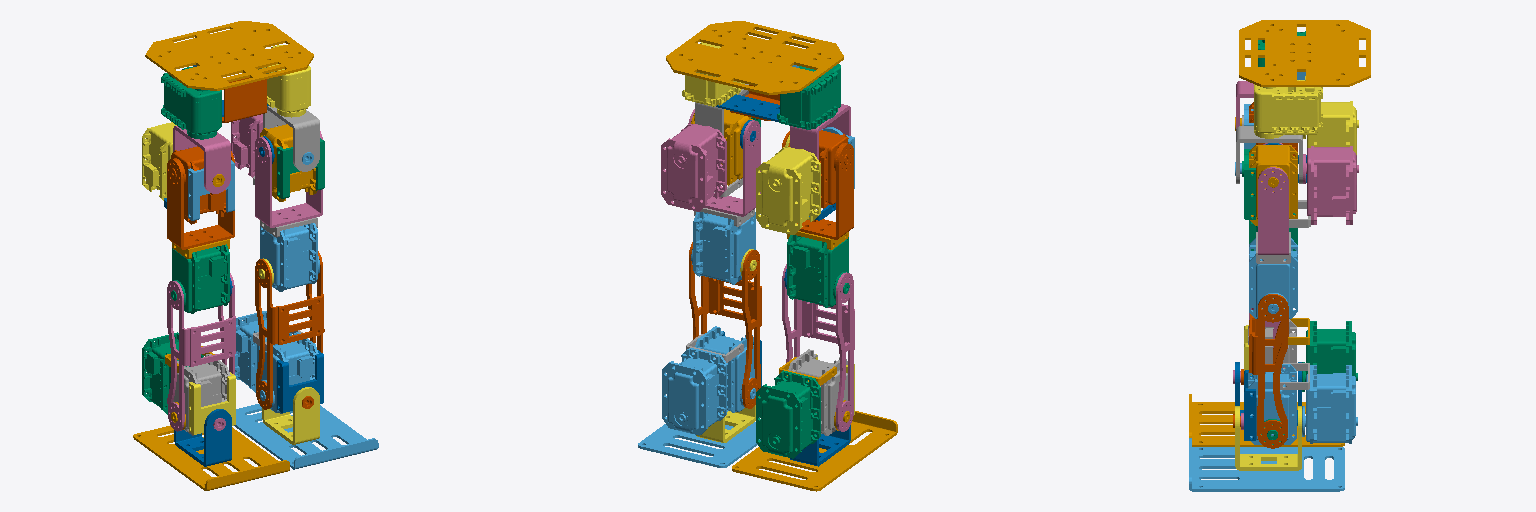
--- Render facts (derived) ---
Views: 3 orthographic renders of the robot side by side, from view 1: azimuth 30°, elevation 25°; view 2: azimuth 150°, elevation 25°; view 3: azimuth 270°, elevation 25°.
Model Biped with 50 links and 49 joints (12 continuous, 37 fixed), rooted at base_link, posed all joints at 0.
Links seen in each view (by area): view 1: base_link, Foot_L1, Knee_Foot_bracket_R1, Knee_Foot_Bracket_L1, Foot_R1, Knee_servo_Pitch_L1, Knee_servo_Pitch_R1, Hip_servo_Yaw_L1, Hip_Knee_bracket_L1, Hip_Knee_Backet_R1, foot_connect_L1, foot_connect_R1 (+16 smaller); view 2: base_link, Hip_servo_roll_R1, Hip_servo_roll_L1, foot_Servo_roll_R1, foot_servo_roll_L1, Foot_L1, Knee_Foot_Bracket_L1, Knee_Foot_bracket_R1, Knee_servo_Pitch_L1, Knee_servo_Pitch_R1, Foot_R1, Hip_servo_Yaw_L1 (+12 smaller); view 3: base_link, Foot_R1, Hip_servo_roll_R1, foot_Servo_roll_R1, Knee_Foot_bracket_R1, Hip_servo_Yaw__R_1, Hip_Knee_Backet_R1, Foot_L1, Knee_servo_Pitch_R1, foot_servo_roll_L1, Hip_servo_Pitch_R1, Hip_servo_roll_L1 (+6 smaller).
Boxes of the visible links, x1,y1,x2,y2 form: base_link: [145, 21, 313, 90]; Foot_L1: [133, 425, 289, 490]; Knee_Foot_bracket_R1: [255, 251, 324, 409]; Knee_Foot_Bracket_L1: [167, 273, 235, 431]; Foot_R1: [234, 404, 378, 469]; Knee_servo_Pitch_L1: [171, 244, 229, 313]; Knee_servo_Pitch_R1: [260, 223, 319, 291]; Hip_servo_Yaw_L1: [161, 67, 221, 139]; Hip_Knee_bracket_L1: [167, 151, 234, 249]; Hip_Knee_Backet_R1: [255, 131, 322, 227]; foot_connect_L1: [174, 409, 231, 466]; foot_connect_R1: [262, 387, 319, 444]; base_link: [666, 21, 843, 95]; Hip_servo_roll_R1: [661, 124, 726, 211]; Hip_servo_roll_L1: [756, 147, 820, 234]; foot_Servo_roll_R1: [662, 348, 726, 435]; foot_servo_roll_L1: [756, 370, 820, 458]; Foot_L1: [732, 411, 897, 491]; Knee_Foot_Bracket_L1: [782, 264, 854, 431]; Knee_Foot_bracket_R1: [689, 242, 761, 408]; Knee_servo_Pitch_L1: [787, 235, 849, 307]; Knee_servo_Pitch_R1: [691, 212, 755, 284]; Foot_R1: [638, 410, 760, 467]; Hip_servo_Yaw_L1: [777, 64, 840, 129]; base_link: [1239, 20, 1370, 86]; Foot_R1: [1189, 438, 1344, 491]; Hip_servo_roll_R1: [1303, 146, 1358, 224]; foot_Servo_roll_R1: [1302, 365, 1357, 443]; Knee_Foot_bracket_R1: [1249, 294, 1288, 448]; Hip_servo_Yaw__R_1: [1254, 76, 1322, 138]; Hip_Knee_Backet_R1: [1258, 143, 1288, 254]; Foot_L1: [1189, 394, 1344, 446]; Knee_servo_Pitch_R1: [1249, 238, 1297, 318]; foot_servo_roll_L1: [1302, 321, 1357, 391]; Hip_servo_Pitch_R1: [1249, 145, 1297, 225]; Hip_servo_roll_L1: [1303, 101, 1358, 154].
Size in the robot's own frame: 0.148 by 0.131 by 0.311 metres.
Meshes: 50 distinct files referenced, 50 mesh visuals loaded (50 binary STL).

URDF robot description (Biped):
<?xml version="1.0" ?>
<robot name="Biped">

<material name="silver">
  <color rgba="0.700 0.700 0.700 1.000"/>
</material>

<link name="base_link">
  <inertial>
    <origin xyz="0.06060872462491695 0.036723589973975845 0.30999861161402337" rpy="0 0 0"/>
    <mass value="0.02188916916153513"/>
    <inertia ixx="1.4745375687328505e-05" iyy="2.054443019497247e-05" izz="3.527521310286041e-05" ixy="-9.684751620381694e-09" iyz="-2.168404344971009e-19" ixz="1.0842021724855044e-19"/>
  </inertial>
  <visual>
    <origin xyz="0 0 0" rpy="0 0 0"/>
    <geometry>
      <mesh filename="meshes/base_link.stl" scale="0.001 0.001 0.001"/>
    </geometry>
    <material name="silver"/>
    <material/>
  </visual>
  <collision>
    <origin xyz="0 0 0" rpy="0 0 0"/>
    <geometry>
      <mesh filename="meshes/base_link.stl" scale="0.001 0.001 0.001"/>
    </geometry>
  </collision>
</link>

<link name="connect_link_v11">
  <inertial>
    <origin xyz="8.755939062687901e-08 -0.005999506282332957 -0.0032503883859776317" rpy="0 0 0"/>
    <mass value="0.00969209120805048"/>
    <inertia ixx="4.4427801889897027e-07" iyy="2.5957966162830142e-06" izz="2.9718261595912686e-06" ixy="5.759824041329242e-20" iyz="-2.710505431213761e-20" ixz="0.0"/>
  </inertial>
  <visual>
    <origin xyz="-0.060628 -0.038873 -0.308999" rpy="0 0 0"/>
    <geometry>
      <mesh filename="meshes/connect_link_v11.stl" scale="0.001 0.001 0.001"/>
    </geometry>
    <material name="silver"/>
    <material/>
  </visual>
  <collision>
    <origin xyz="-0.060628 -0.038873 -0.308999" rpy="0 0 0"/>
    <geometry>
      <mesh filename="meshes/connect_link_v11.stl" scale="0.001 0.001 0.001"/>
    </geometry>
  </collision>
</link>

<link name="Hip_servo_Yaw_L1">
  <inertial>
    <origin xyz="-0.013531113018413154 -0.00969047444291548 -0.01700249284622163" rpy="0 0 0"/>
    <mass value="0.056156082900612025"/>
    <inertia ixx="1.6178335463269515e-05" iyy="8.950870395210524e-06" izz="1.3635436612402693e-05" ixy="1.4223614970348356e-08" iyz="-1.1036335249283921e-07" ixz="-1.9200076826824883e-09"/>
  </inertial>
  <visual>
    <origin xyz="-0.035628 -0.032873 -0.302499" rpy="0 0 0"/>
    <geometry>
      <mesh filename="meshes/Hip_servo_Yaw_L1.stl" scale="0.001 0.001 0.001"/>
    </geometry>
    <material name="silver"/>
    <material/>
  </visual>
  <collision>
    <origin xyz="-0.035628 -0.032873 -0.302499" rpy="0 0 0"/>
    <geometry>
      <mesh filename="meshes/Hip_servo_Yaw_L1.stl" scale="0.001 0.001 0.001"/>
    </geometry>
  </collision>
</link>

<link name="Hip_servo_Yaw__R_1">
  <inertial>
    <origin xyz="0.013468886981585007 -0.00969047444291786 -0.016802492846221484" rpy="0 0 0"/>
    <mass value="0.056156082900612025"/>
    <inertia ixx="1.617833546327125e-05" iyy="8.950870395210524e-06" izz="1.3635436612402605e-05" ixy="1.4223614970267041e-08" iyz="-1.1036335249289342e-07" ixz="-1.920007683007749e-09"/>
  </inertial>
  <visual>
    <origin xyz="-0.085628 -0.032873 -0.302499" rpy="0 0 0"/>
    <geometry>
      <mesh filename="meshes/Hip_servo_Yaw__R_1.stl" scale="0.001 0.001 0.001"/>
    </geometry>
    <material name="silver"/>
    <material/>
  </visual>
  <collision>
    <origin xyz="-0.085628 -0.032873 -0.302499" rpy="0 0 0"/>
    <geometry>
      <mesh filename="meshes/Hip_servo_Yaw__R_1.stl" scale="0.001 0.001 0.001"/>
    </geometry>
  </collision>
</link>

<link name="connect_link_21">
  <inertial>
    <origin xyz="0.025000087559390392 4.93717667540694e-07 -0.0007503883859772409" rpy="0 0 0"/>
    <mass value="0.0022366364326270346"/>
    <inertia ixx="9.507024189355125e-08" iyy="5.915745335974634e-07" izz="6.858060368287546e-07" ixy="1.4399560103323106e-20" iyz="3.3881317890172014e-21" ixz="6.776263578034403e-21"/>
  </inertial>
  <visual>
    <origin xyz="-0.035628 -0.032873 -0.270499" rpy="0 0 0"/>
    <geometry>
      <mesh filename="meshes/connect_link_21.stl" scale="0.001 0.001 0.001"/>
    </geometry>
    <material name="silver"/>
    <material/>
  </visual>
  <collision>
    <origin xyz="-0.035628 -0.032873 -0.270499" rpy="0 0 0"/>
    <geometry>
      <mesh filename="meshes/connect_link_21.stl" scale="0.001 0.001 0.001"/>
    </geometry>
  </collision>
</link>

<link name="support_link1">
  <inertial>
    <origin xyz="8.755938650517603e-08 -0.01899092222380293 0.008312349694208576" rpy="0 0 0"/>
    <mass value="0.004271598629814522"/>
    <inertia ixx="9.380132827919367e-07" iyy="9.819874908971005e-07" izz="8.644459883259723e-07" ixy="-2.82061971435682e-19" iyz="2.809956492261554e-07" ixz="1.4907779871675686e-19"/>
  </inertial>
  <visual>
    <origin xyz="-0.060628 -0.038873 -0.268999" rpy="0 0 0"/>
    <geometry>
      <mesh filename="meshes/support_link1.stl" scale="0.001 0.001 0.001"/>
    </geometry>
    <material name="silver"/>
    <material/>
  </visual>
  <collision>
    <origin xyz="-0.060628 -0.038873 -0.268999" rpy="0 0 0"/>
    <geometry>
      <mesh filename="meshes/support_link1.stl" scale="0.001 0.001 0.001"/>
    </geometry>
  </collision>
</link>

<link name="Hip_bracket_yaw_L_v11">
  <inertial>
    <origin xyz="8.755937528151514e-08 -0.00019455926519733498 -0.012368152810058874" rpy="0 0 0"/>
    <mass value="0.008735700587823858"/>
    <inertia ixx="4.557715173367227e-06" iyy="1.596604357873184e-06" izz="3.6811077103368883e-06" ixy="-8.343274530454858e-20" iyz="-2.8340072973809954e-08" ixz="-3.503328269843786e-18"/>
  </inertial>
  <visual>
    <origin xyz="-0.022128 -0.010373 -0.265499" rpy="0 0 0"/>
    <geometry>
      <mesh filename="meshes/Hip_bracket_yaw_L_v11.stl" scale="0.001 0.001 0.001"/>
    </geometry>
    <material name="silver"/>
    <material/>
  </visual>
  <collision>
    <origin xyz="-0.022128 -0.010373 -0.265499" rpy="0 0 0"/>
    <geometry>
      <mesh filename="meshes/Hip_bracket_yaw_L_v11.stl" scale="0.001 0.001 0.001"/>
    </geometry>
  </collision>
</link>

<link name="Hip_Bracket_yaw_R1">
  <inertial>
    <origin xyz="8.755937279392167e-08 -0.0001945592651994444 -0.012368152810057986" rpy="0 0 0"/>
    <mass value="0.008735700587823858"/>
    <inertia ixx="4.557715173370263e-06" iyy="1.5966043578800144e-06" izz="3.681107710333268e-06" ixy="-7.115076756936123e-20" iyz="-2.8340072973769297e-08" ixz="-3.415236843329339e-18"/>
  </inertial>
  <visual>
    <origin xyz="-0.099128 -0.010373 -0.265699" rpy="0 0 0"/>
    <geometry>
      <mesh filename="meshes/Hip_Bracket_yaw_R1.stl" scale="0.001 0.001 0.001"/>
    </geometry>
    <material name="silver"/>
    <material/>
  </visual>
  <collision>
    <origin xyz="-0.099128 -0.010373 -0.265699" rpy="0 0 0"/>
    <geometry>
      <mesh filename="meshes/Hip_Bracket_yaw_R1.stl" scale="0.001 0.001 0.001"/>
    </geometry>
  </collision>
</link>

<link name="Bush_2_1">
  <inertial>
    <origin xyz="0.022128087559382902 0.21457600178506725 -0.04262638838534463" rpy="0 0 0"/>
    <mass value="0.00033912761870964644"/>
    <inertia ixx="3.5534106983028924e-09" iyy="4.084788845227892e-09" izz="3.553410474846204e-09" ixy="-2.6469779601696886e-23" iyz="-1.4336032632279033e-19" ixz="2.117582368135751e-22"/>
  </inertial>
  <visual>
    <origin xyz="0.0 0.226125 -0.279125" rpy="0 0 0"/>
    <geometry>
      <mesh filename="meshes/Bush_2_1.stl" scale="0.001 0.001 0.001"/>
    </geometry>
    <material name="silver"/>
    <material/>
  </visual>
  <collision>
    <origin xyz="0.0 0.226125 -0.279125" rpy="0 0 0"/>
    <geometry>
      <mesh filename="meshes/Bush_2_1.stl" scale="0.001 0.001 0.001"/>
    </geometry>
  </collision>
</link>

<link name="Bush_1_v11">
  <inertial>
    <origin xyz="-0.07712791244061934 -0.2586209982149346 -0.04262638838534433" rpy="0 0 0"/>
    <mass value="0.00033912761870964644"/>
    <inertia ixx="3.5534106983028924e-09" iyy="4.084788845234668e-09" izz="3.553410474846707e-09" ixy="5.293955920339377e-23" iyz="-1.4336032632279033e-19" ixz="0.0"/>
  </inertial>
  <visual>
    <origin xyz="-0.176256 -0.247072 -0.279325" rpy="0 0 0"/>
    <geometry>
      <mesh filename="meshes/Bush_1_v11.stl" scale="0.001 0.001 0.001"/>
    </geometry>
    <material name="silver"/>
    <material/>
  </visual>
  <collision>
    <origin xyz="-0.176256 -0.247072 -0.279325" rpy="0 0 0"/>
    <geometry>
      <mesh filename="meshes/Bush_1_v11.stl" scale="0.001 0.001 0.001"/>
    </geometry>
  </collision>
</link>

<link name="Washer_11">
  <inertial>
    <origin xyz="-0.09912791244096347 -0.008551506282331372 0.2366986116140234" rpy="0 0 0"/>
    <mass value="0.0001569470040624276"/>
    <inertia ixx="2.095397917133054e-09" iyy="4.096365919137407e-09" izz="2.095397782786852e-09" ixy="2.6469779601696886e-23" iyz="0.0" ixz="4.235164736271502e-22"/>
  </inertial>
  <visual>
    <origin xyz="-0.198256 -0.0 -0.0" rpy="0 0 0"/>
    <geometry>
      <mesh filename="meshes/Washer_11.stl" scale="0.001 0.001 0.001"/>
    </geometry>
    <material name="silver"/>
    <material/>
  </visual>
  <collision>
    <origin xyz="-0.198256 -0.0 -0.0" rpy="0 0 0"/>
    <geometry>
      <mesh filename="meshes/Washer_11.stl" scale="0.001 0.001 0.001"/>
    </geometry>
  </collision>
</link>

<link name="Hip_servo_roll_L1">
  <inertial>
    <origin xyz="0.02212792246244539 0.28094966903192353 -0.005937424755607296" rpy="0 0 0"/>
    <mass value="0.05848616148988177"/>
    <inertia ixx="1.6766044291456443e-05" iyy="1.3912202333722732e-05" izz="1.0380681129501561e-05" ixy="-2.87094284597781e-10" iyz="4.782213604587627e-07" ixz="4.278207660097372e-10"/>
  </inertial>
  <visual>
    <origin xyz="0.0 0.226125 -0.231125" rpy="0 0 0"/>
    <geometry>
      <mesh filename="meshes/Hip_servo_roll_L1.stl" scale="0.001 0.001 0.001"/>
    </geometry>
    <material name="silver"/>
    <material/>
  </visual>
  <collision>
    <origin xyz="0.0 0.226125 -0.231125" rpy="0 0 0"/>
    <geometry>
      <mesh filename="meshes/Hip_servo_roll_L1.stl" scale="0.001 0.001 0.001"/>
    </geometry>
  </collision>
</link>

<link name="Support_roll_servo_L1">
  <inertial>
    <origin xyz="-0.008342818068121632 -0.007693332734379908 -8.605220785384837e-07" rpy="0 0 0"/>
    <mass value="0.001003390579055556"/>
    <inertia ixx="5.969253484000835e-08" iyy="1.9068402818395841e-07" izz="2.44845355143008e-07" ixy="-1.0691242380712038e-09" iyz="-8.557850778121313e-13" ixz="1.6064752087411026e-10"/>
  </inertial>
  <visual>
    <origin xyz="-0.030628 -0.040148 -0.200699" rpy="0 0 0"/>
    <geometry>
      <mesh filename="meshes/Support_roll_servo_L1.stl" scale="0.001 0.001 0.001"/>
    </geometry>
    <material name="silver"/>
    <material/>
  </visual>
  <collision>
    <origin xyz="-0.030628 -0.040148 -0.200699" rpy="0 0 0"/>
    <geometry>
      <mesh filename="meshes/Support_roll_servo_L1.stl" scale="0.001 0.001 0.001"/>
    </geometry>
  </collision>
</link>

<link name="Hip_servo_Pitch_L1">
  <inertial>
    <origin xyz="0.014675874563868638 -0.00849934833873182 0.02448944364464442" rpy="0 0 0"/>
    <mass value="0.05848616148988177"/>
    <inertia ixx="1.3912202333719696e-05" iyy="1.6766044291457744e-05" izz="1.038068112949967e-05" ixy="2.8709428237516654e-10" iyz="-4.278207647357996e-10" ixz="4.782213604587085e-07"/>
  </inertial>
  <visual>
    <origin xyz="-0.007126 -0.021598 -0.200711" rpy="0 0 0"/>
    <geometry>
      <mesh filename="meshes/Hip_servo_Pitch_L1.stl" scale="0.001 0.001 0.001"/>
    </geometry>
    <material name="silver"/>
    <material/>
  </visual>
  <collision>
    <origin xyz="-0.007126 -0.021598 -0.200711" rpy="0 0 0"/>
    <geometry>
      <mesh filename="meshes/Hip_servo_Pitch_L1.stl" scale="0.001 0.001 0.001"/>
    </geometry>
  </collision>
</link>

<link name="Hip_servo_roll_R1">
  <inertial>
    <origin xyz="-7.753755698614029e-08 0.02042667618526226 -0.011311424755605842" rpy="0 0 0"/>
    <mass value="0.05848616148988177"/>
    <inertia ixx="1.6766044291457744e-05" iyy="1.3912202333722732e-05" izz="1.0380681129502347e-05" ixy="-2.870942846519911e-10" iyz="4.782213604588711e-07" ixz="4.278207660097372e-10"/>
  </inertial>
  <visual>
    <origin xyz="-0.099128 -0.034373 -0.236699" rpy="0 0 0"/>
    <geometry>
      <mesh filename="meshes/Hip_servo_roll_R1.stl" scale="0.001 0.001 0.001"/>
    </geometry>
    <material name="silver"/>
    <material/>
  </visual>
  <collision>
    <origin xyz="-0.099128 -0.034373 -0.236699" rpy="0 0 0"/>
    <geometry>
      <mesh filename="meshes/Hip_servo_roll_R1.stl" scale="0.001 0.001 0.001"/>
    </geometry>
  </collision>
</link>

<link name="Support_roll_Servo_R1">
  <inertial>
    <origin xyz="-0.008482904734634547 -0.007763870604140438 -7.445276328510442e-07" rpy="0 0 0"/>
    <mass value="0.000991152631600229"/>
    <inertia ixx="5.899142983411561e-08" iyy="1.8810254074607535e-07" izz="2.4162816800247254e-07" ixy="-6.052279683857172e-11" iyz="-1.6902670593133494e-12" ixz="1.5851502979013143e-10"/>
  </inertial>
  <visual>
    <origin xyz="-0.107628 -0.040123 -0.200899" rpy="0 0 0"/>
    <geometry>
      <mesh filename="meshes/Support_roll_Servo_R1.stl" scale="0.001 0.001 0.001"/>
    </geometry>
    <material name="silver"/>
    <material/>
  </visual>
  <collision>
    <origin xyz="-0.107628 -0.040123 -0.200899" rpy="0 0 0"/>
    <geometry>
      <mesh filename="meshes/Support_roll_Servo_R1.stl" scale="0.001 0.001 0.001"/>
    </geometry>
  </collision>
</link>

<link name="Hip_servo_Pitch_R1">
  <inertial>
    <origin xyz="-0.014676502879000491 -0.008499671379272359 0.024488710964318067" rpy="0 0 0"/>
    <mass value="0.05848616148988177"/>
    <inertia ixx="1.3912202333717094e-05" iyy="1.6766044291459913e-05" izz="1.0380681129500396e-05" ixy="2.8709428341871113e-10" iyz="4.2782076619947255e-10" ixz="-4.782213604574617e-07"/>
  </inertial>
  <visual>
    <origin xyz="-0.114126 -0.021593 -0.200886" rpy="0 0 0"/>
    <geometry>
      <mesh filename="meshes/Hip_servo_Pitch_R1.stl" scale="0.001 0.001 0.001"/>
    </geometry>
    <material name="silver"/>
    <material/>
  </visual>
  <collision>
    <origin xyz="-0.114126 -0.021593 -0.200886" rpy="0 0 0"/>
    <geometry>
      <mesh filename="meshes/Hip_servo_Pitch_R1.stl" scale="0.001 0.001 0.001"/>
    </geometry>
  </collision>
</link>

<link name="side_attach_L_hip1">
  <inertial>
    <origin xyz="0.014999692096273623 -0.0030449648531452583 -0.0129790855107213" rpy="0 0 0"/>
    <mass value="0.0051821405505521004"/>
    <inertia ixx="6.678809461064129e-07" iyy="1.5448767594578657e-06" izz="9.305088933269494e-07" ixy="1.376428539288238e-20" iyz="2.639983998775246e-08" ixz="-4.0657581468206416e-20"/>
  </inertial>
  <visual>
    <origin xyz="-0.007126 0.001902 -0.241011" rpy="0 0 0"/>
    <geometry>
      <mesh filename="meshes/side_attach_L_hip1.stl" scale="0.001 0.001 0.001"/>
    </geometry>
    <material name="silver"/>
    <material/>
  </visual>
  <collision>
    <origin xyz="-0.007126 0.001902 -0.241011" rpy="0 0 0"/>
    <geometry>
      <mesh filename="meshes/side_attach_L_hip1.stl" scale="0.001 0.001 0.001"/>
    </geometry>
  </collision>
</link>

<link name="side_attach_R_hip1">
  <inertial>
    <origin xyz="0.014999679588596604 -0.0030449576998069347 -0.012979818191048487" rpy="0 0 0"/>
    <mass value="0.0051821405505521004"/>
    <inertia ixx="6.678809461064129e-07" iyy="1.5448767594578115e-06" izz="9.305088933269325e-07" ixy="4.1081097941833566e-20" iyz="2.6399839987756695e-08" ixz="-5.421010862427522e-20"/>
  </inertial>
  <visual>
    <origin xyz="-0.084126 0.001907 -0.241186" rpy="0 0 0"/>
    <geometry>
      <mesh filename="meshes/side_attach_R_hip1.stl" scale="0.001 0.001 0.001"/>
    </geometry>
    <material name="silver"/>
    <material/>
  </visual>
  <collision>
    <origin xyz="-0.084126 0.001907 -0.241186" rpy="0 0 0"/>
    <geometry>
      <mesh filename="meshes/side_attach_R_hip1.stl" scale="0.001 0.001 0.001"/>
    </geometry>
  </collision>
</link>

<link name="Horn_L_pitch1">
  <inertial>
    <origin xyz="0.0012521355878538712 4.865593969827914e-07 4.813353695898304e-07" rpy="0 0 0"/>
    <mass value="0.0010452069679460242"/>
    <inertia ixx="5.912619983875389e-08" iyy="3.074557111910957e-08" izz="3.074619929578471e-08" ixy="-1.0727354639620493e-17" iyz="-9.826429221097138e-18" ixz="2.9483977007094004e-13"/>
  </inertial>
  <visual>
    <origin xyz="-0.041376 -0.013098 -0.236511" rpy="0 0 0"/>
    <geometry>
      <mesh filename="meshes/Horn_L_pitch1.stl" scale="0.001 0.001 0.001"/>
    </geometry>
    <material name="silver"/>
    <material/>
  </visual>
  <collision>
    <origin xyz="-0.041376 -0.013098 -0.236511" rpy="0 0 0"/>
    <geometry>
      <mesh filename="meshes/Horn_L_pitch1.stl" scale="0.001 0.001 0.001"/>
    </geometry>
  </collision>
</link>

<link name="Horn_R_pitch1">
  <inertial>
    <origin xyz="-0.0012527639029847326 4.937225982701299e-07 -2.5134495748591057e-07" rpy="0 0 0"/>
    <mass value="0.0010452069679460242"/>
    <inertia ixx="5.912619983876067e-08" iyy="3.074557111909602e-08" izz="3.0746199295786403e-08" ixy="-1.072682524402846e-17" iyz="9.827276254044393e-18" ixz="-2.9483976837687415e-13"/>
  </inertial>
  <visual>
    <origin xyz="-0.079876 -0.013093 -0.236686" rpy="0 0 0"/>
    <geometry>
      <mesh filename="meshes/Horn_R_pitch1.stl" scale="0.001 0.001 0.001"/>
    </geometry>
    <material name="silver"/>
    <material/>
  </visual>
  <collision>
    <origin xyz="-0.079876 -0.013093 -0.236686" rpy="0 0 0"/>
    <geometry>
      <mesh filename="meshes/Horn_R_pitch1.stl" scale="0.001 0.001 0.001"/>
    </geometry>
  </collision>
</link>

<link name="Hip_Knee_bracket_L1">
  <inertial>
    <origin xyz="0.021249692096275977 4.865643284390764e-07 -0.033829438471636136" rpy="0 0 0"/>
    <mass value="0.009175751935708147"/>
    <inertia ixx="4.594487188322037e-06" iyy="8.003394278945509e-06" izz="4.152987321468783e-06" ixy="4.1928130889087867e-20" iyz="5.421010862427522e-20" ixz="6.301925127571995e-19"/>
  </inertial>
  <visual>
    <origin xyz="-0.001376 -0.013098 -0.236511" rpy="0 0 0"/>
    <geometry>
      <mesh filename="meshes/Hip_Knee_bracket_L1.stl" scale="0.001 0.001 0.001"/>
    </geometry>
    <material name="silver"/>
    <material/>
  </visual>
  <collision>
    <origin xyz="-0.001376 -0.013098 -0.236511" rpy="0 0 0"/>
    <geometry>
      <mesh filename="meshes/Hip_Knee_bracket_L1.stl" scale="0.001 0.001 0.001"/>
    </geometry>
  </collision>
</link>

<link name="Hip_Knee_Backet_R1">
  <inertial>
    <origin xyz="-0.021250320411406745 4.937176672527299e-07 -0.03383017115196263" rpy="0 0 0"/>
    <mass value="0.009175751935708147"/>
    <inertia ixx="4.5944871883218746e-06" iyy="8.0033942789454e-06" izz="4.15298732146876e-06" ixy="6.098637220230962e-20" iyz="9.486769009248164e-20" ixz="-6.2341624917916505e-19"/>
  </inertial>
  <visual>
    <origin xyz="-0.119876 -0.013093 -0.236686" rpy="0 0 0"/>
    <geometry>
      <mesh filename="meshes/Hip_Knee_Backet_R1.stl" scale="0.001 0.001 0.001"/>
    </geometry>
    <material name="silver"/>
    <material/>
  </visual>
  <collision>
    <origin xyz="-0.119876 -0.013093 -0.236686" rpy="0 0 0"/>
    <geometry>
      <mesh filename="meshes/Hip_Knee_Backet_R1.stl" scale="0.001 0.001 0.001"/>
    </geometry>
  </collision>
</link>

<link name="Knee_attach_R1">
  <inertial>
    <origin xyz="-0.006000320411404053 0.005000493717670246 -0.002398275087053814" rpy="0 0 0"/>
    <mass value="0.004096604584621629"/>
    <inertia ixx="2.3788320348527283e-07" iyy="5.967941100390168e-07" izz="8.00202789891466e-07" ixy="5.082197683525802e-21" iyz="1.2027867851011065e-19" ixz="0.0"/>
  </inertial>
  <visual>
    <origin xyz="-0.104626 -0.008093 -0.177786" rpy="0 0 0"/>
    <geometry>
      <mesh filename="meshes/Knee_attach_R1.stl" scale="0.001 0.001 0.001"/>
    </geometry>
    <material name="silver"/>
    <material/>
  </visual>
  <collision>
    <origin xyz="-0.104626 -0.008093 -0.177786" rpy="0 0 0"/>
    <geometry>
      <mesh filename="meshes/Knee_attach_R1.stl" scale="0.001 0.001 0.001"/>
    </geometry>
  </collision>
</link>

<link name="Knee_attach_L1">
  <inertial>
    <origin xyz="0.005999692096272949 0.0050004865643309675 -0.002397542406727099" rpy="0 0 0"/>
    <mass value="0.004096604584621629"/>
    <inertia ixx="2.3788320348529994e-07" iyy="5.967941100390168e-07" izz="8.002027898914601e-07" ixy="4.446922973085077e-21" iyz="1.2366681029912785e-19" ixz="-3.3881317890172014e-21"/>
  </inertial>
  <visual>
    <origin xyz="-0.016626 -0.008098 -0.177611" rpy="0 0 0"/>
    <geometry>
      <mesh filename="meshes/Knee_attach_L1.stl" scale="0.001 0.001 0.001"/>
    </geometry>
    <material name="silver"/>
    <material/>
  </visual>
  <collision>
    <origin xyz="-0.016626 -0.008098 -0.177611" rpy="0 0 0"/>
    <geometry>
      <mesh filename="meshes/Knee_attach_L1.stl" scale="0.001 0.001 0.001"/>
    </geometry>
  </collision>
</link>

<link name="Knee_servo_Pitch_R1">
  <inertial>
    <origin xyz="-0.014676502879000353 0.008500658814608045 -0.024489216296418842" rpy="0 0 0"/>
    <mass value="0.05848616148988177"/>
    <inertia ixx="1.3912202333717745e-05" iyy="1.6766044291459262e-05" izz="1.0380681129502022e-05" ixy="-2.8709428542448515e-10" iyz="4.278207651694805e-10" ixz="4.782213604577869e-07"/>
  </inertial>
  <visual>
    <origin xyz="-0.113626 -0.004593 -0.171986" rpy="0 0 0"/>
    <geometry>
      <mesh filename="meshes/Knee_servo_Pitch_R1.stl" scale="0.001 0.001 0.001"/>
    </geometry>
    <material name="silver"/>
    <material/>
  </visual>
  <collision>
    <origin xyz="-0.113626 -0.004593 -0.171986" rpy="0 0 0"/>
    <geometry>
      <mesh filename="meshes/Knee_servo_Pitch_R1.stl" scale="0.001 0.001 0.001"/>
    </geometry>
  </collision>
</link>

<link name="Knee_servo_Pitch_L1">
  <inertial>
    <origin xyz="0.014675874563868638 0.008500321467389181 -0.024488483616092294" rpy="0 0 0"/>
    <mass value="0.05848616148988177"/>
    <inertia ixx="1.3912202333716877e-05" iyy="1.676604429146013e-05" izz="1.0380681129501331e-05" ixy="-2.870942852584667e-10" iyz="-4.2782076469514204e-10" ixz="-4.782213604581122e-07"/>
  </inertial>
  <visual>
    <origin xyz="-0.007626 -0.004598 -0.171811" rpy="0 0 0"/>
    <geometry>
      <mesh filename="meshes/Knee_servo_Pitch_L1.stl" scale="0.001 0.001 0.001"/>
    </geometry>
    <material name="silver"/>
    <material/>
  </visual>
  <collision>
    <origin xyz="-0.007626 -0.004598 -0.171811" rpy="0 0 0"/>
    <geometry>
      <mesh filename="meshes/Knee_servo_Pitch_L1.stl" scale="0.001 0.001 0.001"/>
    </geometry>
  </collision>
</link>

<link name="Horn_knee_R1">
  <inertial>
    <origin xyz="-0.001252763902984913 4.937226001661826e-07 -2.5134495568179815e-07" rpy="0 0 0"/>
    <mass value="0.0010452069679460242"/>
    <inertia ixx="5.9126199838750504e-08" iyy="3.074557111909602e-08" izz="3.0746199295785556e-08" ixy="-1.0727037002265273e-17" iyz="9.827276254044393e-18" ixz="-2.9483977007094004e-13"/>
  </inertial>
  <visual>
    <origin xyz="-0.079376 -0.013093 -0.136186" rpy="0 0 0"/>
    <geometry>
      <mesh filename="meshes/Horn_knee_R1.stl" scale="0.001 0.001 0.001"/>
    </geometry>
    <material name="silver"/>
    <material/>
  </visual>
  <collision>
    <origin xyz="-0.079376 -0.013093 -0.136186" rpy="0 0 0"/>
    <geometry>
      <mesh filename="meshes/Horn_knee_R1.stl" scale="0.001 0.001 0.001"/>
    </geometry>
  </collision>
</link>

<link name="horn_knee_L1">
  <inertial>
    <origin xyz="0.002252135587853879 4.865593970278942e-07 4.813353710608759e-07" rpy="0 0 0"/>
    <mass value="0.0010452069679460242"/>
    <inertia ixx="5.9126199838747116e-08" iyy="3.0745571119099405e-08" izz="3.074619929578513e-08" ixy="-1.0727037002265273e-17" iyz="-9.827276254044393e-18" ixz="2.94839770917973e-13"/>
  </inertial>
  <visual>
    <origin xyz="-0.040776 -0.013098 -0.136011" rpy="0 0 0"/>
    <geometry>
      <mesh filename="meshes/horn_knee_L1.stl" scale="0.001 0.001 0.001"/>
    </geometry>
    <material name="silver"/>
    <material/>
  </visual>
  <collision>
    <origin xyz="-0.040776 -0.013098 -0.136011" rpy="0 0 0"/>
    <geometry>
      <mesh filename="meshes/horn_knee_L1.stl" scale="0.001 0.001 0.001"/>
    </geometry>
  </collision>
</link>

<link name="Knee_Foot_bracket_R1">
  <inertial>
    <origin xyz="-0.020750320411406342 -0.005736828540610742 -0.045869017981759186" rpy="0 0 0"/>
    <mass value="0.01132882807356771"/>
    <inertia ixx="1.2028771165940581e-05" iyy="1.55864745617426e-05" izz="5.285440237642322e-06" ixy="-2.6359665318553827e-18" iyz="3.3191643722885005e-07" ixz="-4.824699667560495e-18"/>
  </inertial>
  <visual>
    <origin xyz="-0.119376 -0.013093 -0.136186" rpy="0 0 0"/>
    <geometry>
      <mesh filename="meshes/Knee_Foot_bracket_R1.stl" scale="0.001 0.001 0.001"/>
    </geometry>
    <material name="silver"/>
    <material/>
  </visual>
  <collision>
    <origin xyz="-0.119376 -0.013093 -0.136186" rpy="0 0 0"/>
    <geometry>
      <mesh filename="meshes/Knee_Foot_bracket_R1.stl" scale="0.001 0.001 0.001"/>
    </geometry>
  </collision>
</link>

<link name="Knee_Foot_Bracket_L1">
  <inertial>
    <origin xyz="0.02074969209627193 -0.005736835693952584 -0.04586828530143351" rpy="0 0 0"/>
    <mass value="0.01132882807356771"/>
    <inertia ixx="1.2028771165943156e-05" iyy="1.558647456173733e-05" izz="5.285440237642529e-06" ixy="-1.0532854699107225e-18" iyz="3.319164372288721e-07" ixz="-4.360525612465138e-18"/>
  </inertial>
  <visual>
    <origin xyz="-0.001876 -0.013098 -0.136011" rpy="0 0 0"/>
    <geometry>
      <mesh filename="meshes/Knee_Foot_Bracket_L1.stl" scale="0.001 0.001 0.001"/>
    </geometry>
    <material name="silver"/>
    <material/>
  </visual>
  <collision>
    <origin xyz="-0.001876 -0.013098 -0.136011" rpy="0 0 0"/>
    <geometry>
      <mesh filename="meshes/Knee_Foot_Bracket_L1.stl" scale="0.001 0.001 0.001"/>
    </geometry>
  </collision>
</link>

<link name="Foot_servo_pitch_L1">
  <inertial>
    <origin xyz="-0.02042649037132176 6.579111523682263e-07 0.011310766149735293" rpy="0 0 0"/>
    <mass value="0.05848616148988177"/>
    <inertia ixx="1.3912202333717365e-05" iyy="1.67660442914575e-05" izz="1.0380681129498919e-05" ixy="-2.8709428463505045e-10" iyz="4.2782076392942426e-10" ixz="4.782213604566349e-07"/>
  </inertial>
  <visual>
    <origin xyz="-0.043376 -0.012598 -0.036013" rpy="0 0 0"/>
    <geometry>
      <mesh filename="meshes/Foot_servo_pitch_L1.stl" scale="0.001 0.001 0.001"/>
    </geometry>
    <material name="silver"/>
    <material/>
  </visual>
  <collision>
    <origin xyz="-0.043376 -0.012598 -0.036013" rpy="0 0 0"/>
    <geometry>
      <mesh filename="meshes/Foot_servo_pitch_L1.stl" scale="0.001 0.001 0.001"/>
    </geometry>
  </collision>
</link>

<link name="Horn_foot_L1">
  <inertial>
    <origin xyz="-0.08656475139530725 -0.03292450718085519 0.04509873110119793" rpy="0 0 0"/>
    <mass value="0.0010452069679460242"/>
    <inertia ixx="5.912619983874902e-08" iyy="3.074557111909665e-08" izz="3.074619929578468e-08" ixy="-1.0726944358036667e-17" iyz="9.827223314485189e-18" ixz="-2.9483976968712824e-13"/>
  </inertial>
  <visual>
    <origin xyz="-0.088888 -0.045523 0.009086" rpy="0 0 0"/>
    <geometry>
      <mesh filename="meshes/Horn_foot_L1.stl" scale="0.001 0.001 0.001"/>
    </geometry>
    <material name="silver"/>
    <material/>
  </visual>
  <collision>
    <origin xyz="-0.088888 -0.045523 0.009086" rpy="0 0 0"/>
    <geometry>
      <mesh filename="meshes/Horn_foot_L1.stl" scale="0.001 0.001 0.001"/>
    </geometry>
  </collision>
</link>

<link name="Foot_servo_pitch_R1">
  <inertial>
    <origin xyz="0.02042586205619032 3.348706169078314e-07 0.01131103346940917" rpy="0 0 0"/>
    <mass value="0.05848616148988177"/>
    <inertia ixx="1.39122023337175e-05" iyy="1.676604429146089e-05" izz="1.0380681129499203e-05" ixy="-2.8709428458422847e-10" iyz="-4.278207643156713e-10" ixz="-4.782213604578411e-07"/>
  </inertial>
  <visual>
    <origin xyz="-0.077876 -0.012593 -0.036187" rpy="0 0 0"/>
    <geometry>
      <mesh filename="meshes/Foot_servo_pitch_R1.stl" scale="0.001 0.001 0.001"/>
    </geometry>
    <material name="silver"/>
    <material/>
  </visual>
  <collision>
    <origin xyz="-0.077876 -0.012593 -0.036187" rpy="0 0 0"/>
    <geometry>
      <mesh filename="meshes/Foot_servo_pitch_R1.stl" scale="0.001 0.001 0.001"/>
    </geometry>
  </collision>
</link>

<link name="horn_foot_R1">
  <inertial>
    <origin xyz="0.08673912308017687 -0.07717550003737624 0.045093998420873006" rpy="0 0 0"/>
    <mass value="0.0010452069679460242"/>
    <inertia ixx="5.9126199838749445e-08" iyy="3.0745571119099405e-08" izz="3.074619929578386e-08" ixy="-1.0728095793449341e-17" iyz="-9.827064495807579e-18" ixz="2.94839770917973e-13"/>
  </inertial>
  <visual>
    <origin xyz="-0.032189 -0.089769 0.008907" rpy="0 0 0"/>
    <geometry>
      <mesh filename="meshes/horn_foot_R1.stl" scale="0.001 0.001 0.001"/>
    </geometry>
    <material name="silver"/>
    <material/>
  </visual>
  <collision>
    <origin xyz="-0.032189 -0.089769 0.008907" rpy="0 0 0"/>
    <geometry>
      <mesh filename="meshes/horn_foot_R1.stl" scale="0.001 0.001 0.001"/>
    </geometry>
  </collision>
</link>

<link name="side_attach_foot_L1">
  <inertial>
    <origin xyz="0.01499969209627203 -0.003044958603260741 -0.02102070469489966" rpy="0 0 0"/>
    <mass value="0.0051821405505521004"/>
    <inertia ixx="6.678809461064637e-07" iyy="1.5448767594579199e-06" izz="9.305088933269494e-07" ixy="1.7470054537119944e-20" iyz="-2.6399839987736366e-08" ixz="-4.0657581468206416e-20"/>
  </inertial>
  <visual>
    <origin xyz="-0.007626 0.002402 -0.065513" rpy="0 0 0"/>
    <geometry>
      <mesh filename="meshes/side_attach_foot_L1.stl" scale="0.001 0.001 0.001"/>
    </geometry>
    <material name="silver"/>
    <material/>
  </visual>
  <collision>
    <origin xyz="-0.007626 0.002402 -0.065513" rpy="0 0 0"/>
    <geometry>
      <mesh filename="meshes/side_attach_foot_L1.stl" scale="0.001 0.001 0.001"/>
    </geometry>
  </collision>
</link>

<link name="side_attach_foot_R1">
  <inertial>
    <origin xyz="0.014999679588593176 -0.0030449514499178132 -0.021020437375226145" rpy="0 0 0"/>
    <mass value="0.0051821405505521004"/>
    <inertia ixx="6.67880946106462e-07" iyy="1.5448767594579334e-06" izz="9.305088933269528e-07" ixy="6.098637220230962e-20" iyz="-2.6399839987733613e-08" ixz="-4.743384504624082e-20"/>
  </inertial>
  <visual>
    <origin xyz="-0.083626 0.002407 -0.065687" rpy="0 0 0"/>
    <geometry>
      <mesh filename="meshes/side_attach_foot_R1.stl" scale="0.001 0.001 0.001"/>
    </geometry>
    <material name="silver"/>
    <material/>
  </visual>
  <collision>
    <origin xyz="-0.083626 0.002407 -0.065687" rpy="0 0 0"/>
    <geometry>
      <mesh filename="meshes/side_attach_foot_R1.stl" scale="0.001 0.001 0.001"/>
    </geometry>
  </collision>
</link>

<link name="Washer_31">
  <inertial>
    <origin xyz="-3.079033827589617e-07 -0.0009495071857869766 -2.702198959314561e-07" rpy="0 0 0"/>
    <mass value="0.0001569470040624276"/>
    <inertia ixx="2.0953979171312804e-09" iyy="4.096365919140425e-09" izz="2.0953977827867066e-09" ixy="3.970466940254533e-23" iyz="2.6469779601696886e-23" ixz="-2.6469779601696886e-23"/>
  </inertial>
  <visual>
    <origin xyz="-0.022626 0.008202 -0.036013" rpy="0 0 0"/>
    <geometry>
      <mesh filename="meshes/Washer_31.stl" scale="0.001 0.001 0.001"/>
    </geometry>
    <material name="silver"/>
    <material/>
  </visual>
  <collision>
    <origin xyz="-0.022626 0.008202 -0.036013" rpy="0 0 0"/>
    <geometry>
      <mesh filename="meshes/Washer_31.stl" scale="0.001 0.001 0.001"/>
    </geometry>
  </collision>
</link>

<link name="Washer_41">
  <inertial>
    <origin xyz="-3.2041106155789034e-07 -0.0009495000324434687 -2.900222124957441e-09" rpy="0 0 0"/>
    <mass value="0.0001569470040624276"/>
    <inertia ixx="2.0953979171312275e-09" iyy="4.0963659191399485e-09" izz="2.0953977827866404e-09" ixy="1.3234889800848443e-22" iyz="2.6469779601696886e-23" ixz="1.0587911840678754e-22"/>
  </inertial>
  <visual>
    <origin xyz="-0.098626 0.008207 -0.036187" rpy="0 0 0"/>
    <geometry>
      <mesh filename="meshes/Washer_41.stl" scale="0.001 0.001 0.001"/>
    </geometry>
    <material name="silver"/>
    <material/>
  </visual>
  <collision>
    <origin xyz="-0.098626 0.008207 -0.036187" rpy="0 0 0"/>
    <geometry>
      <mesh filename="meshes/Washer_41.stl" scale="0.001 0.001 0.001"/>
    </geometry>
  </collision>
</link>

<link name="support_attach_foot_R1">
  <inertial>
    <origin xyz="-0.014980904734635064 0.010766135645748173 1.250523819568139e-05" rpy="0 0 0"/>
    <mass value="0.000991152631600229"/>
    <inertia ixx="5.8991429834111377e-08" iyy="1.8810254074607874e-07" izz="2.4162816800247254e-07" ixy="-6.052279683264249e-11" iyz="-1.690267058889833e-12" ixz="1.585150297816611e-10"/>
  </inertial>
  <visual>
    <origin xyz="-0.113626 -0.021093 -0.071987" rpy="0 0 0"/>
    <geometry>
      <mesh filename="meshes/support_attach_foot_R1.stl" scale="0.001 0.001 0.001"/>
    </geometry>
    <material name="silver"/>
    <material/>
  </visual>
  <collision>
    <origin xyz="-0.113626 -0.021093 -0.071987" rpy="0 0 0"/>
    <geometry>
      <mesh filename="meshes/support_attach_foot_R1.stl" scale="0.001 0.001 0.001"/>
    </geometry>
  </collision>
</link>

<link name="support_attach_foot_L1">
  <inertial>
    <origin xyz="0.015019095265367776 0.010766128492404603 -1.3494761805218913e-05" rpy="0 0 0"/>
    <mass value="0.000991152631600229"/>
    <inertia ixx="5.899142983411053e-08" iyy="1.8810254074607705e-07" izz="2.416281680024772e-07" ixy="-6.052279683984227e-11" iyz="-1.6902670580428e-12" ixz="1.58515029785261e-10"/>
  </inertial>
  <visual>
    <origin xyz="-0.007626 -0.021098 -0.071813" rpy="0 0 0"/>
    <geometry>
      <mesh filename="meshes/support_attach_foot_L1.stl" scale="0.001 0.001 0.001"/>
    </geometry>
    <material name="silver"/>
    <material/>
  </visual>
  <collision>
    <origin xyz="-0.007626 -0.021098 -0.071813" rpy="0 0 0"/>
    <geometry>
      <mesh filename="meshes/support_attach_foot_L1.stl" scale="0.001 0.001 0.001"/>
    </geometry>
  </collision>
</link>

<link name="foot_Servo_roll_R1">
  <inertial>
    <origin xyz="0.008500252656323384 0.01467668243515189 -0.02448910225051438" rpy="0 0 0"/>
    <mass value="0.05848616148988177"/>
    <inertia ixx="1.6766044291457094e-05" iyy="1.3912202333717853e-05" izz="1.0380681129500287e-05" ixy="2.870942834051586e-10" iyz="-4.782213604569195e-07" ixz="4.2782076514237544e-10"/>
  </inertial>
  <visual>
    <origin xyz="-0.090128 -0.039623 -0.072" rpy="0 0 0"/>
    <geometry>
      <mesh filename="meshes/foot_Servo_roll_R1.stl" scale="0.001 0.001 0.001"/>
    </geometry>
    <material name="silver"/>
    <material/>
  </visual>
  <collision>
    <origin xyz="-0.090128 -0.039623 -0.072" rpy="0 0 0"/>
    <geometry>
      <mesh filename="meshes/foot_Servo_roll_R1.stl" scale="0.001 0.001 0.001"/>
    </geometry>
  </collision>
</link>

<link name="foot_servo_roll_L1">
  <inertial>
    <origin xyz="0.008500252656324985 0.014676675281807584 -0.024489102250515565" rpy="0 0 0"/>
    <mass value="0.05848616148988177"/>
    <inertia ixx="1.6766044291456064e-05" iyy="1.3912202333717257e-05" izz="1.0380681129500233e-05" ixy="2.8709428202280084e-10" iyz="-4.78221360458058e-07" ixz="4.2782076464093193e-10"/>
  </inertial>
  <visual>
    <origin xyz="-0.014128 -0.039628 -0.0718" rpy="0 0 0"/>
    <geometry>
      <mesh filename="meshes/foot_servo_roll_L1.stl" scale="0.001 0.001 0.001"/>
    </geometry>
    <material name="silver"/>
    <material/>
  </visual>
  <collision>
    <origin xyz="-0.014128 -0.039628 -0.0718" rpy="0 0 0"/>
    <geometry>
      <mesh filename="meshes/foot_servo_roll_L1.stl" scale="0.001 0.001 0.001"/>
    </geometry>
  </collision>
</link>

<link name="foot_connect_R1">
  <inertial>
    <origin xyz="8.755939616411634e-08 -0.02418545026519283 -0.018933957152685102" rpy="0 0 0"/>
    <mass value="0.009163335973748653"/>
    <inertia ixx="5.388156082317761e-06" iyy="2.0604137855260025e-06" izz="4.098092484132955e-06" ixy="-3.4389537658524594e-19" iyz="3.226179646354344e-08" ixz="-3.2221133313553585e-18"/>
  </inertial>
  <visual>
    <origin xyz="-0.098628 -0.033873 -0.0362" rpy="0 0 0"/>
    <geometry>
      <mesh filename="meshes/foot_connect_R1.stl" scale="0.001 0.001 0.001"/>
    </geometry>
    <material name="silver"/>
    <material/>
  </visual>
  <collision>
    <origin xyz="-0.098628 -0.033873 -0.0362" rpy="0 0 0"/>
    <geometry>
      <mesh filename="meshes/foot_connect_R1.stl" scale="0.001 0.001 0.001"/>
    </geometry>
  </collision>
</link>

<link name="foot_connect_L1">
  <inertial>
    <origin xyz="8.755939907845178e-08 -0.02418545741853705 -0.018933957152686056" rpy="0 0 0"/>
    <mass value="0.009163335973748653"/>
    <inertia ixx="5.388156082317786e-06" iyy="2.060413785525978e-06" izz="4.09809248413296e-06" ixy="-1.6855955650360577e-19" iyz="3.226179646356017e-08" ixz="-3.2534535504037676e-18"/>
  </inertial>
  <visual>
    <origin xyz="-0.022628 -0.033878 -0.036" rpy="0 0 0"/>
    <geometry>
      <mesh filename="meshes/foot_connect_L1.stl" scale="0.001 0.001 0.001"/>
    </geometry>
    <material name="silver"/>
    <material/>
  </visual>
  <collision>
    <origin xyz="-0.022628 -0.033878 -0.036" rpy="0 0 0"/>
    <geometry>
      <mesh filename="meshes/foot_connect_L1.stl" scale="0.001 0.001 0.001"/>
    </geometry>
  </collision>
</link>

<link name="Bush_31">
  <inertial>
    <origin xyz="0.0986256795885939 -0.01442899196504672 -0.036187002900855" rpy="0 0 0"/>
    <mass value="0.00033912761870964644"/>
    <inertia ixx="3.55341069830501e-09" iyy="4.084788845233821e-09" izz="3.5534104748454365e-09" ixy="0.0" iyz="1.4328091698398524e-19" ixz="2.117582368135751e-22"/>
  </inertial>
  <visual>
    <origin xyz="-0.0 -0.0019 -0.072374" rpy="0 0 0"/>
    <geometry>
      <mesh filename="meshes/Bush_31.stl" scale="0.001 0.001 0.001"/>
    </geometry>
    <material name="silver"/>
    <material/>
  </visual>
  <collision>
    <origin xyz="-0.0 -0.0019 -0.072374" rpy="0 0 0"/>
    <geometry>
      <mesh filename="meshes/Bush_31.stl" scale="0.001 0.001 0.001"/>
    </geometry>
  </collision>
</link>

<link name="Bush_41">
  <inertial>
    <origin xyz="0.022625692096272715 -0.014423999118389902 -0.036012270220528525" rpy="0 0 0"/>
    <mass value="0.00033912761870964644"/>
    <inertia ixx="3.553410698305116e-09" iyy="4.084788845233398e-09" izz="3.5534104748462836e-09" ixy="-2.6469779601696886e-23" iyz="1.4328091698398524e-19" ixz="5.293955920339377e-23"/>
  </inertial>
  <visual>
    <origin xyz="-0.0 -0.0019 -0.072025" rpy="0 0 0"/>
    <geometry>
      <mesh filename="meshes/Bush_41.stl" scale="0.001 0.001 0.001"/>
    </geometry>
    <material name="silver"/>
    <material/>
  </visual>
  <collision>
    <origin xyz="-0.0 -0.0019 -0.072025" rpy="0 0 0"/>
    <geometry>
      <mesh filename="meshes/Bush_41.stl" scale="0.001 0.001 0.001"/>
    </geometry>
  </collision>
</link>

<link name="Washer_21">
  <inertial>
    <origin xyz="8.755903861679126e-08 -0.000949506282329789 -3.883859768794018e-07" rpy="0 0 0"/>
    <mass value="0.0001569470040624276"/>
    <inertia ixx="2.0953979171296658e-09" iyy="4.0963659191391015e-09" izz="2.0953977827866404e-09" ixy="5.624828165360588e-23" iyz="0.0" ixz="0.0"/>
  </inertial>
  <visual>
    <origin xyz="-0.022128 0.007627 -0.236499" rpy="0 0 0"/>
    <geometry>
      <mesh filename="meshes/Washer_21.stl" scale="0.001 0.001 0.001"/>
    </geometry>
    <material name="silver"/>
    <material/>
  </visual>
  <collision>
    <origin xyz="-0.022128 0.007627 -0.236499" rpy="0 0 0"/>
    <geometry>
      <mesh filename="meshes/Washer_21.stl" scale="0.001 0.001 0.001"/>
    </geometry>
  </collision>
</link>

<link name="Foot_L1">
  <inertial>
    <origin xyz="-2.7052128486727833e-05 0.007324772290066046 -0.0006236210593121259" rpy="0 0 0"/>
    <mass value="0.11874731720777594"/>
    <inertia ixx="0.00013504403572545478" iyy="5.5253122397327985e-05" izz="0.00018972335778322334" ixy="1.6680131596703596e-08" iyz="2.294744148063528e-06" ixz="-1.2134276637682498e-09"/>
  </inertial>
  <visual>
    <origin xyz="-0.016628 0.002622 -0.002" rpy="0 0 0"/>
    <geometry>
      <mesh filename="meshes/Foot_L1.stl" scale="0.001 0.001 0.001"/>
    </geometry>
    <material name="silver"/>
    <material/>
  </visual>
  <collision>
    <origin xyz="-0.016628 0.002622 -0.002" rpy="0 0 0"/>
    <geometry>
      <mesh filename="meshes/Foot_L1.stl" scale="0.001 0.001 0.001"/>
    </geometry>
  </collision>
</link>

<link name="Foot_R1">
  <inertial>
    <origin xyz="0.012027451028017819 -0.01725251116732917 -0.0007467666233469173" rpy="0 0 0"/>
    <mass value="0.12955381074460537"/>
    <inertia ixx="0.00014571037521278116" iyy="6.0318526185315115e-05" izz="0.00020541185133327164" ixy="-1.6849622382276346e-08" iyz="2.3689601189101116e-06" ixz="1.2527184422173737e-09"/>
  </inertial>
  <visual>
    <origin xyz="-0.092628 -0.022373 -0.0022" rpy="0 0 0"/>
    <geometry>
      <mesh filename="meshes/Foot_R1.stl" scale="0.001 0.001 0.001"/>
    </geometry>
    <material name="silver"/>
    <material/>
  </visual>
  <collision>
    <origin xyz="-0.092628 -0.022373 -0.0022" rpy="0 0 0"/>
    <geometry>
      <mesh filename="meshes/Foot_R1.stl" scale="0.001 0.001 0.001"/>
    </geometry>
  </collision>
</link>

<joint name="Rigid_1" type="fixed">
  <origin xyz="0.060628 0.038873 0.308999" rpy="0 0 0"/>
  <parent link="base_link"/>
  <child link="connect_link_v11"/>
</joint>

<joint name="Rigid_2" type="fixed">
  <origin xyz="-0.025 -0.006 -0.0065" rpy="0 0 0"/>
  <parent link="connect_link_v11"/>
  <child link="Hip_servo_Yaw_L1"/>
</joint>

<joint name="Rigid_3" type="fixed">
  <origin xyz="0.025 -0.006 -0.0065" rpy="0 0 0"/>
  <parent link="connect_link_v11"/>
  <child link="Hip_servo_Yaw__R_1"/>
</joint>

<joint name="Rigid_4" type="fixed">
  <origin xyz="0.0 0.0 -0.032" rpy="0 0 0"/>
  <parent link="Hip_servo_Yaw_L1"/>
  <child link="connect_link_21"/>
</joint>

<joint name="Rigid_5" type="fixed">
  <origin xyz="0.025 0.006 -0.0015" rpy="0 0 0"/>
  <parent link="connect_link_21"/>
  <child link="support_link1"/>
</joint>

<joint name="Revolute_12" type="continuous">
  <origin xyz="-0.0135 -0.0225 -0.037" rpy="0 0 0"/>
  <parent link="Hip_servo_Yaw_L1"/>
  <child link="Hip_bracket_yaw_L_v11"/>
  <axis xyz="-0.0 0.0 -1.0"/>
</joint>
<transmission name="Revolute_12_tran">
  <type>transmission_interface/SimpleTransmission</type>
  <joint name="Revolute_12">
    <hardwareInterface>PositionJointInterface</hardwareInterface>
  </joint>
  <actuator name="Revolute_12_actr">
    <hardwareInterface>PositionJointInterface</hardwareInterface>
    <mechanicalReduction>1</mechanicalReduction>
  </actuator>
</transmission>

<joint name="Revolute_14" type="continuous">
  <origin xyz="0.0135 -0.0225 -0.0368" rpy="0 0 0"/>
  <parent link="Hip_servo_Yaw__R_1"/>
  <child link="Hip_Bracket_yaw_R1"/>
  <axis xyz="-0.0 0.0 -1.0"/>
</joint>
<transmission name="Revolute_14_tran">
  <type>transmission_interface/SimpleTransmission</type>
  <joint name="Revolute_14">
    <hardwareInterface>PositionJointInterface</hardwareInterface>
  </joint>
  <actuator name="Revolute_14_actr">
    <hardwareInterface>PositionJointInterface</hardwareInterface>
    <mechanicalReduction>1</mechanicalReduction>
  </actuator>
</transmission>

<joint name="Rigid_15" type="fixed">
  <origin xyz="-0.022128 -0.236498 0.013626" rpy="0 0 0"/>
  <parent link="Hip_bracket_yaw_L_v11"/>
  <child link="Bush_2_1"/>
</joint>

<joint name="Rigid_16" type="fixed">
  <origin xyz="0.077128 0.236699 0.013626" rpy="0 0 0"/>
  <parent link="Hip_Bracket_yaw_R1"/>
  <child link="Bush_1_v11"/>
</joint>

<joint name="Rigid_17" type="fixed">
  <origin xyz="0.022 -0.247072 -0.279325" rpy="0 0 0"/>
  <parent link="Bush_1_v11"/>
  <child link="Washer_11"/>
</joint>

<joint name="Revolute_42" type="continuous">
  <origin xyz="-0.022128 -0.236498 -0.034374" rpy="0 0 0"/>
  <parent link="Hip_bracket_yaw_L_v11"/>
  <child link="Hip_servo_roll_L1"/>
  <axis xyz="-0.0 -1.0 -0.0"/>
</joint>
<transmission name="Revolute_42_tran">
  <type>transmission_interface/SimpleTransmission</type>
  <joint name="Revolute_42">
    <hardwareInterface>PositionJointInterface</hardwareInterface>
  </joint>
  <actuator name="Revolute_42_actr">
    <hardwareInterface>PositionJointInterface</hardwareInterface>
    <mechanicalReduction>1</mechanicalReduction>
  </actuator>
</transmission>

<joint name="Rigid_43" type="fixed">
  <origin xyz="0.030628 0.266273 -0.030426" rpy="0 0 0"/>
  <parent link="Hip_servo_roll_L1"/>
  <child link="Support_roll_servo_L1"/>
</joint>

<joint name="Rigid_44" type="fixed">
  <origin xyz="-0.023502 -0.01855 1.2e-05" rpy="0 0 0"/>
  <parent link="Support_roll_servo_L1"/>
  <child link="Hip_servo_Pitch_L1"/>
</joint>

<joint name="Revolute_45" type="continuous">
  <origin xyz="0.0 0.024 -0.029" rpy="0 0 0"/>
  <parent link="Hip_Bracket_yaw_R1"/>
  <child link="Hip_servo_roll_R1"/>
  <axis xyz="-0.0 -1.0 -0.0"/>
</joint>
<transmission name="Revolute_45_tran">
  <type>transmission_interface/SimpleTransmission</type>
  <joint name="Revolute_45">
    <hardwareInterface>PositionJointInterface</hardwareInterface>
  </joint>
  <actuator name="Revolute_45_actr">
    <hardwareInterface>PositionJointInterface</hardwareInterface>
    <mechanicalReduction>1</mechanicalReduction>
  </actuator>
</transmission>

<joint name="Rigid_46" type="fixed">
  <origin xyz="0.0085 0.00575 -0.0358" rpy="0 0 0"/>
  <parent link="Hip_servo_roll_R1"/>
  <child link="Support_roll_Servo_R1"/>
</joint>

<joint name="Rigid_47" type="fixed">
  <origin xyz="0.006498 -0.01853 -1.3e-05" rpy="0 0 0"/>
  <parent link="Support_roll_Servo_R1"/>
  <child link="Hip_servo_Pitch_R1"/>
</joint>

<joint name="Rigid_48" type="fixed">
  <origin xyz="0.0 -0.0235 0.0403" rpy="0 0 0"/>
  <parent link="Hip_servo_Pitch_L1"/>
  <child link="side_attach_L_hip1"/>
</joint>

<joint name="Rigid_49" type="fixed">
  <origin xyz="-0.03 -0.0235 0.0403" rpy="0 0 0"/>
  <parent link="Hip_servo_Pitch_R1"/>
  <child link="side_attach_R_hip1"/>
</joint>

<joint name="Rigid_50" type="fixed">
  <origin xyz="0.03425 -0.0085 0.0358" rpy="0 0 0"/>
  <parent link="Hip_servo_Pitch_L1"/>
  <child link="Horn_L_pitch1"/>
</joint>

<joint name="Rigid_51" type="fixed">
  <origin xyz="-0.03425 -0.0085 0.0358" rpy="0 0 0"/>
  <parent link="Hip_servo_Pitch_R1"/>
  <child link="Horn_R_pitch1"/>
</joint>

<joint name="Revolute_52" type="continuous">
  <origin xyz="-0.00575 -0.0085 0.0358" rpy="0 0 0"/>
  <parent link="Hip_servo_Pitch_L1"/>
  <child link="Hip_Knee_bracket_L1"/>
  <axis xyz="-1.0 0.0 0.0"/>
</joint>
<transmission name="Revolute_52_tran">
  <type>transmission_interface/SimpleTransmission</type>
  <joint name="Revolute_52">
    <hardwareInterface>PositionJointInterface</hardwareInterface>
  </joint>
  <actuator name="Revolute_52_actr">
    <hardwareInterface>PositionJointInterface</hardwareInterface>
    <mechanicalReduction>1</mechanicalReduction>
  </actuator>
</transmission>

<joint name="Revolute_53" type="continuous">
  <origin xyz="0.00575 -0.0085 0.0358" rpy="0 0 0"/>
  <parent link="Hip_servo_Pitch_R1"/>
  <child link="Hip_Knee_Backet_R1"/>
  <axis xyz="1.0 -0.0 0.0"/>
</joint>
<transmission name="Revolute_53_tran">
  <type>transmission_interface/SimpleTransmission</type>
  <joint name="Revolute_53">
    <hardwareInterface>PositionJointInterface</hardwareInterface>
  </joint>
  <actuator name="Revolute_53_actr">
    <hardwareInterface>PositionJointInterface</hardwareInterface>
    <mechanicalReduction>1</mechanicalReduction>
  </actuator>
</transmission>

<joint name="Rigid_54" type="fixed">
  <origin xyz="-0.01525 -0.005 -0.0589" rpy="0 0 0"/>
  <parent link="Hip_Knee_Backet_R1"/>
  <child link="Knee_attach_R1"/>
</joint>

<joint name="Rigid_55" type="fixed">
  <origin xyz="0.01525 -0.005 -0.0589" rpy="0 0 0"/>
  <parent link="Hip_Knee_bracket_L1"/>
  <child link="Knee_attach_L1"/>
</joint>

<joint name="Rigid_56" type="fixed">
  <origin xyz="0.009 -0.0035 -0.0058" rpy="0 0 0"/>
  <parent link="Knee_attach_R1"/>
  <child link="Knee_servo_Pitch_R1"/>
</joint>

<joint name="Rigid_57" type="fixed">
  <origin xyz="-0.009 -0.0035 -0.0058" rpy="0 0 0"/>
  <parent link="Knee_attach_L1"/>
  <child link="Knee_servo_Pitch_L1"/>
</joint>

<joint name="Rigid_58" type="fixed">
  <origin xyz="-0.03425 0.0085 -0.0358" rpy="0 0 0"/>
  <parent link="Knee_servo_Pitch_R1"/>
  <child link="Horn_knee_R1"/>
</joint>

<joint name="Rigid_59" type="fixed">
  <origin xyz="0.03315 0.0085 -0.0358" rpy="0 0 0"/>
  <parent link="Knee_servo_Pitch_L1"/>
  <child link="horn_knee_L1"/>
</joint>

<joint name="Revolute_60" type="continuous">
  <origin xyz="0.00575 0.0085 -0.0358" rpy="0 0 0"/>
  <parent link="Knee_servo_Pitch_R1"/>
  <child link="Knee_Foot_bracket_R1"/>
  <axis xyz="1.0 -0.0 0.0"/>
</joint>
<transmission name="Revolute_60_tran">
  <type>transmission_interface/SimpleTransmission</type>
  <joint name="Revolute_60">
    <hardwareInterface>PositionJointInterface</hardwareInterface>
  </joint>
  <actuator name="Revolute_60_actr">
    <hardwareInterface>PositionJointInterface</hardwareInterface>
    <mechanicalReduction>1</mechanicalReduction>
  </actuator>
</transmission>

<joint name="Revolute_61" type="continuous">
  <origin xyz="-0.00575 0.0085 -0.0358" rpy="0 0 0"/>
  <parent link="Knee_servo_Pitch_L1"/>
  <child link="Knee_Foot_Bracket_L1"/>
  <axis xyz="-1.0 0.0 -0.0"/>
</joint>
<transmission name="Revolute_61_tran">
  <type>transmission_interface/SimpleTransmission</type>
  <joint name="Revolute_61">
    <hardwareInterface>PositionJointInterface</hardwareInterface>
  </joint>
  <actuator name="Revolute_61_actr">
    <hardwareInterface>PositionJointInterface</hardwareInterface>
    <mechanicalReduction>1</mechanicalReduction>
  </actuator>
</transmission>

<joint name="Revolute_64" type="continuous">
  <origin xyz="0.0415 -0.0005 -0.099998" rpy="0 0 0"/>
  <parent link="Knee_Foot_Bracket_L1"/>
  <child link="Foot_servo_pitch_L1"/>
  <axis xyz="1.0 -0.0 0.0"/>
</joint>
<transmission name="Revolute_64_tran">
  <type>transmission_interface/SimpleTransmission</type>
  <joint name="Revolute_64">
    <hardwareInterface>PositionJointInterface</hardwareInterface>
  </joint>
  <actuator name="Revolute_64_actr">
    <hardwareInterface>PositionJointInterface</hardwareInterface>
    <mechanicalReduction>1</mechanicalReduction>
  </actuator>
</transmission>

<joint name="Rigid_65" type="fixed">
  <origin xyz="0.045512 0.032925 -0.045099" rpy="0 0 0"/>
  <parent link="Foot_servo_pitch_L1"/>
  <child link="Horn_foot_L1"/>
</joint>

<joint name="Revolute_66" type="continuous">
  <origin xyz="-0.0415 -0.0005 -0.099999" rpy="0 0 0"/>
  <parent link="Knee_Foot_bracket_R1"/>
  <child link="Foot_servo_pitch_R1"/>
  <axis xyz="1.0 -0.0 -0.0"/>
</joint>
<transmission name="Revolute_66_tran">
  <type>transmission_interface/SimpleTransmission</type>
  <joint name="Revolute_66">
    <hardwareInterface>PositionJointInterface</hardwareInterface>
  </joint>
  <actuator name="Revolute_66_actr">
    <hardwareInterface>PositionJointInterface</hardwareInterface>
    <mechanicalReduction>1</mechanicalReduction>
  </actuator>
</transmission>

<joint name="Rigid_67" type="fixed">
  <origin xyz="-0.045687 0.077176 -0.045094" rpy="0 0 0"/>
  <parent link="Foot_servo_pitch_R1"/>
  <child link="horn_foot_R1"/>
</joint>

<joint name="Rigid_68" type="fixed">
  <origin xyz="-0.03575 -0.015 0.0295" rpy="0 0 0"/>
  <parent link="Foot_servo_pitch_L1"/>
  <child link="side_attach_foot_L1"/>
</joint>

<joint name="Rigid_69" type="fixed">
  <origin xyz="0.00575 -0.015 0.0295" rpy="0 0 0"/>
  <parent link="Foot_servo_pitch_R1"/>
  <child link="side_attach_foot_R1"/>
</joint>

<joint name="Rigid_70" type="fixed">
  <origin xyz="0.015 -0.0058 -0.0295" rpy="0 0 0"/>
  <parent link="side_attach_foot_L1"/>
  <child link="Washer_31"/>
</joint>

<joint name="Rigid_71" type="fixed">
  <origin xyz="0.015 -0.0058 -0.0295" rpy="0 0 0"/>
  <parent link="side_attach_foot_R1"/>
  <child link="Washer_41"/>
</joint>

<joint name="Rigid_72" type="fixed">
  <origin xyz="0.03575 0.0085 0.0358" rpy="0 0 0"/>
  <parent link="Foot_servo_pitch_R1"/>
  <child link="support_attach_foot_R1"/>
</joint>

<joint name="Rigid_73" type="fixed">
  <origin xyz="-0.03575 0.0085 0.0358" rpy="0 0 0"/>
  <parent link="Foot_servo_pitch_L1"/>
  <child link="support_attach_foot_L1"/>
</joint>

<joint name="Rigid_74" type="fixed">
  <origin xyz="-0.023498 0.01853 1.3e-05" rpy="0 0 0"/>
  <parent link="support_attach_foot_R1"/>
  <child link="foot_Servo_roll_R1"/>
</joint>

<joint name="Rigid_75" type="fixed">
  <origin xyz="0.006502 0.01853 -1.3e-05" rpy="0 0 0"/>
  <parent link="support_attach_foot_L1"/>
  <child link="foot_servo_roll_L1"/>
</joint>

<joint name="Revolute_76" type="continuous">
  <origin xyz="0.0085 -0.00575 -0.0358" rpy="0 0 0"/>
  <parent link="foot_Servo_roll_R1"/>
  <child link="foot_connect_R1"/>
  <axis xyz="-0.0 -1.0 -0.0"/>
</joint>
<transmission name="Revolute_76_tran">
  <type>transmission_interface/SimpleTransmission</type>
  <joint name="Revolute_76">
    <hardwareInterface>PositionJointInterface</hardwareInterface>
  </joint>
  <actuator name="Revolute_76_actr">
    <hardwareInterface>PositionJointInterface</hardwareInterface>
    <mechanicalReduction>1</mechanicalReduction>
  </actuator>
</transmission>

<joint name="Revolute_77" type="continuous">
  <origin xyz="0.0085 -0.00575 -0.0358" rpy="0 0 0"/>
  <parent link="foot_servo_roll_L1"/>
  <child link="foot_connect_L1"/>
  <axis xyz="-0.0 -1.0 -0.0"/>
</joint>
<transmission name="Revolute_77_tran">
  <type>transmission_interface/SimpleTransmission</type>
  <joint name="Revolute_77">
    <hardwareInterface>PositionJointInterface</hardwareInterface>
  </joint>
  <actuator name="Revolute_77_actr">
    <hardwareInterface>PositionJointInterface</hardwareInterface>
    <mechanicalReduction>1</mechanicalReduction>
  </actuator>
</transmission>

<joint name="Rigid_78" type="fixed">
  <origin xyz="-0.098626 0.010107 0.036187" rpy="0 0 0"/>
  <parent link="Washer_41"/>
  <child link="Bush_31"/>
</joint>

<joint name="Rigid_79" type="fixed">
  <origin xyz="-0.022626 0.010102 0.036012" rpy="0 0 0"/>
  <parent link="Washer_31"/>
  <child link="Bush_41"/>
</joint>

<joint name="Rigid_82" type="fixed">
  <origin xyz="0.022128 0.218498 -0.042626" rpy="0 0 0"/>
  <parent link="Bush_2_1"/>
  <child link="Washer_21"/>
</joint>

<joint name="Rigid_85" type="fixed">
  <origin xyz="-0.006 -0.0365 -0.034" rpy="0 0 0"/>
  <parent link="foot_connect_L1"/>
  <child link="Foot_L1"/>
</joint>

<joint name="Rigid_86" type="fixed">
  <origin xyz="-0.006 -0.0115 -0.034" rpy="0 0 0"/>
  <parent link="foot_connect_R1"/>
  <child link="Foot_R1"/>
</joint>

</robot>
